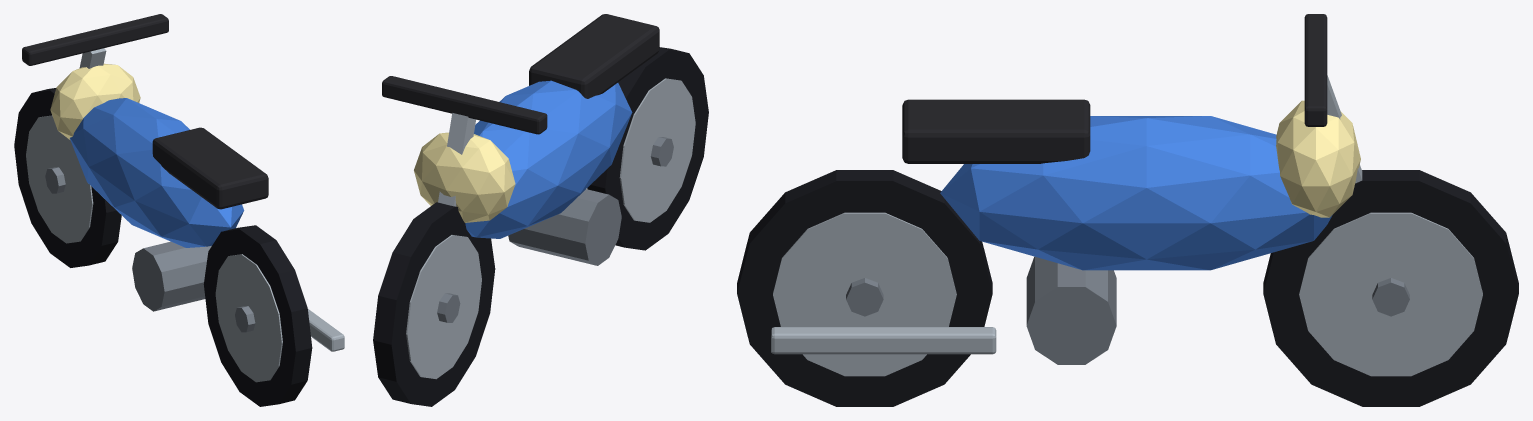
The model's file is Motor_BikeBlue.fbx.
3 views of the same model, side by side, from view 1: azimuth 30°, elevation 25°; view 2: azimuth 150°, elevation 25°; view 3: azimuth 270°, elevation 25° (orthographic). The views are drawn at different scales.
Visible parts, largest first — view 1: BikeBlue; view 2: BikeBlue; view 3: BikeBlue.
Boxes of the visible parts, bbox=[...] form: BikeBlue: bbox=[14, 14, 344, 406]; BikeBlue: bbox=[373, 14, 708, 406]; BikeBlue: bbox=[737, 14, 1518, 406].
Size of the model in its own units: 0.6 by 1 by 2.08.
